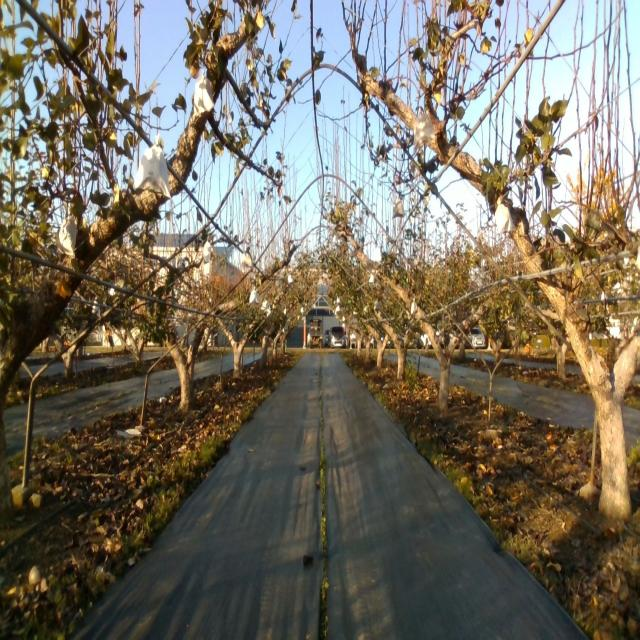pearbags: (134, 136, 170, 197), (193, 70, 216, 116), (56, 214, 78, 259), (412, 110, 436, 151), (494, 198, 515, 234), (392, 199, 404, 218)
